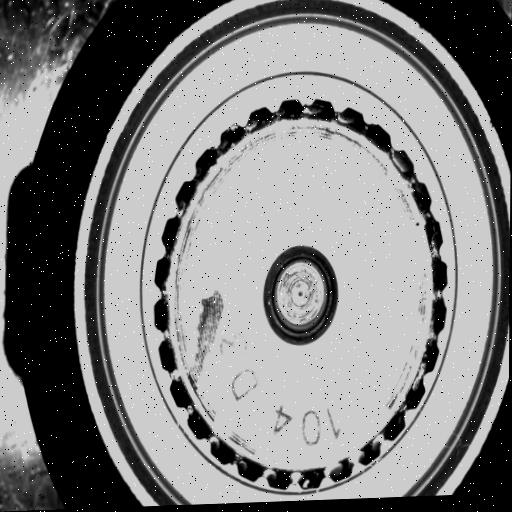gear: (149, 88, 452, 499)
